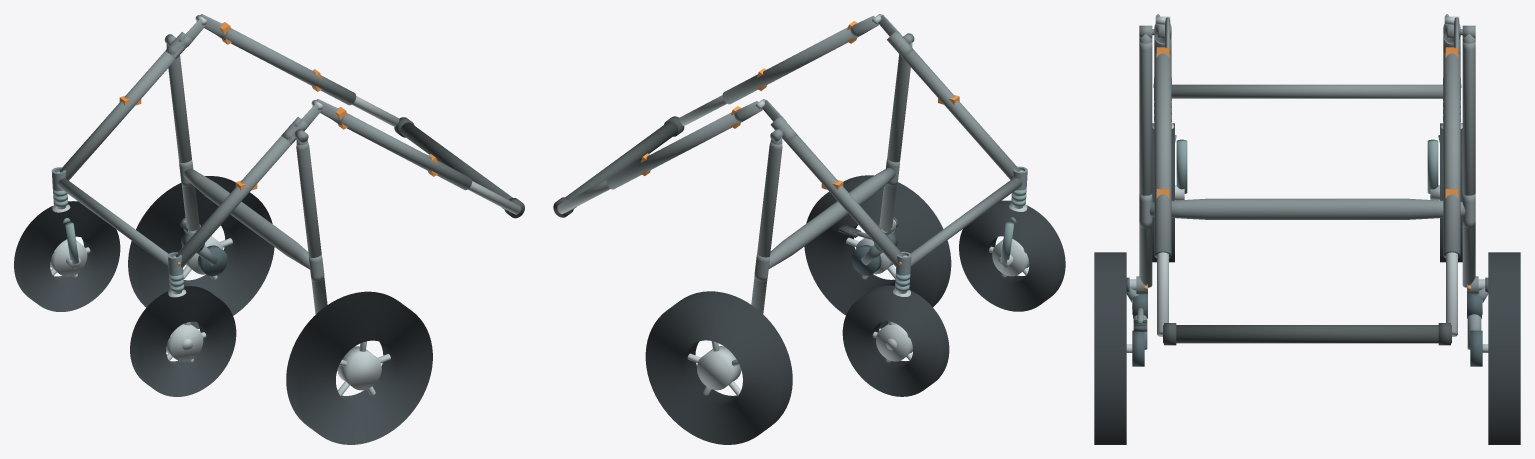
File: w650_state2.glb
3 renders of one model, left to right at view 1: azimuth 30°, elevation 25°; view 2: azimuth 150°, elevation 25°; view 3: azimuth 270°, elevation 25°, orthographic. The views are drawn at different scales.
Visible parts, largest first — view 1: RL_tire.010, RR_tire.010, FL_tire.010, FR_tire.010, V46_rearbar.010, main_lower_1.010, main_lower_-1.010, main_upper_1.010, main_upper_-1.010, V46_rear_leg_1.010, V46_rear_leg_-1.010, round_handle.009 (+7 smaller); view 2: RR_tire.010, RL_tire.010, FR_tire.010, FL_tire.010, V46_rearbar.010, main_lower_-1.010, main_lower_1.010, main_upper_-1.010, main_upper_1.010, V46_rear_leg_-1.010, V46_rear_leg_1.010, round_handle.009 (+7 smaller); view 3: RL_tire.010, RR_tire.010, V46_rearbar.010, round_handle.009, front_fixed_round_tube.010, main_upper_1.010, main_upper_-1.010, V46_rear_leg_1.010, V46_rear_leg_-1.010, handle_slider_1.009, handle_slider_-1.009, FL_tire.010 (+7 smaller).
Part boxes in pixels (x1,y1,x2,y2): RL_tire.010: [286, 291, 432, 444]; RR_tire.010: [128, 176, 274, 328]; FL_tire.010: [130, 286, 236, 396]; FR_tire.010: [14, 201, 120, 311]; V46_rearbar.010: [183, 168, 309, 269]; main_lower_1.010: [59, 46, 183, 180]; main_lower_-1.010: [175, 136, 295, 267]; main_upper_1.010: [221, 28, 356, 105]; main_upper_-1.010: [338, 113, 472, 190]; V46_rear_leg_1.010: [166, 48, 199, 231]; V46_rear_leg_-1.010: [296, 142, 327, 314]; round_handle.009: [400, 122, 523, 216]; RR_tire.010: [645, 291, 792, 444]; RL_tire.010: [804, 175, 951, 328]; FR_tire.010: [842, 285, 949, 396]; FL_tire.010: [959, 200, 1065, 311]; V46_rearbar.010: [769, 168, 895, 268]; main_lower_-1.010: [895, 45, 1019, 179]; main_lower_1.010: [783, 135, 903, 267]; main_upper_-1.010: [722, 27, 857, 104]; main_upper_1.010: [606, 112, 740, 189]; V46_rear_leg_-1.010: [879, 54, 910, 230]; V46_rear_leg_1.010: [751, 141, 782, 313]; round_handle.009: [554, 121, 677, 216]; RL_tire.010: [1094, 252, 1126, 444]; RR_tire.010: [1488, 252, 1520, 444]; V46_rearbar.010: [1149, 198, 1465, 219]; round_handle.009: [1163, 325, 1451, 343]; front_fixed_round_tube.010: [1171, 84, 1443, 98]; main_upper_1.010: [1443, 53, 1460, 257]; main_upper_-1.010: [1154, 53, 1171, 257]; V46_rear_leg_1.010: [1462, 42, 1475, 287]; V46_rear_leg_-1.010: [1139, 42, 1152, 287]; handle_slider_1.009: [1446, 252, 1457, 336]; handle_slider_-1.009: [1157, 252, 1168, 336]; FL_tire.010: [1152, 123, 1174, 262].
Bounding box in the file's own units: 1.05 × 0.84 × 0.796.
